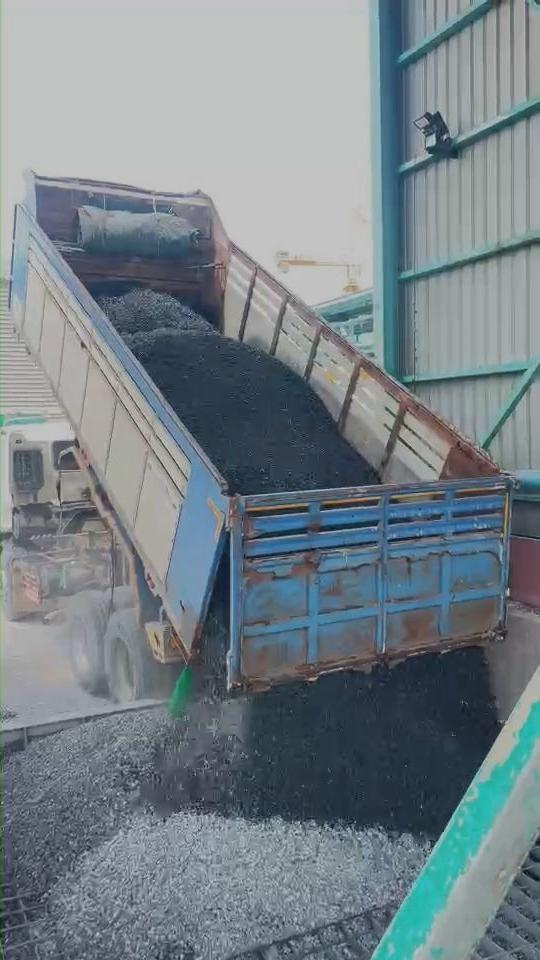gravel: (6, 651, 497, 959), (99, 288, 377, 493)
